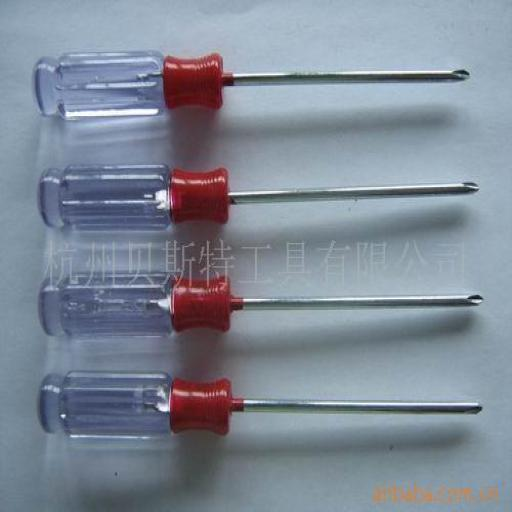screwdriver: (36, 162, 480, 232), (32, 50, 471, 120), (38, 370, 483, 438), (38, 272, 484, 339)
